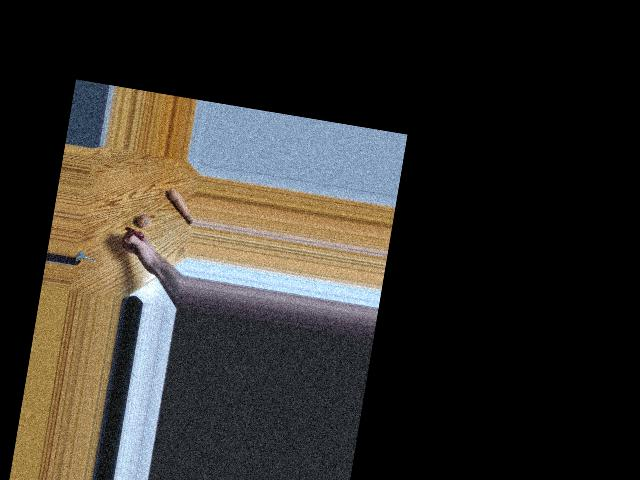onion: (135, 211, 152, 231)
